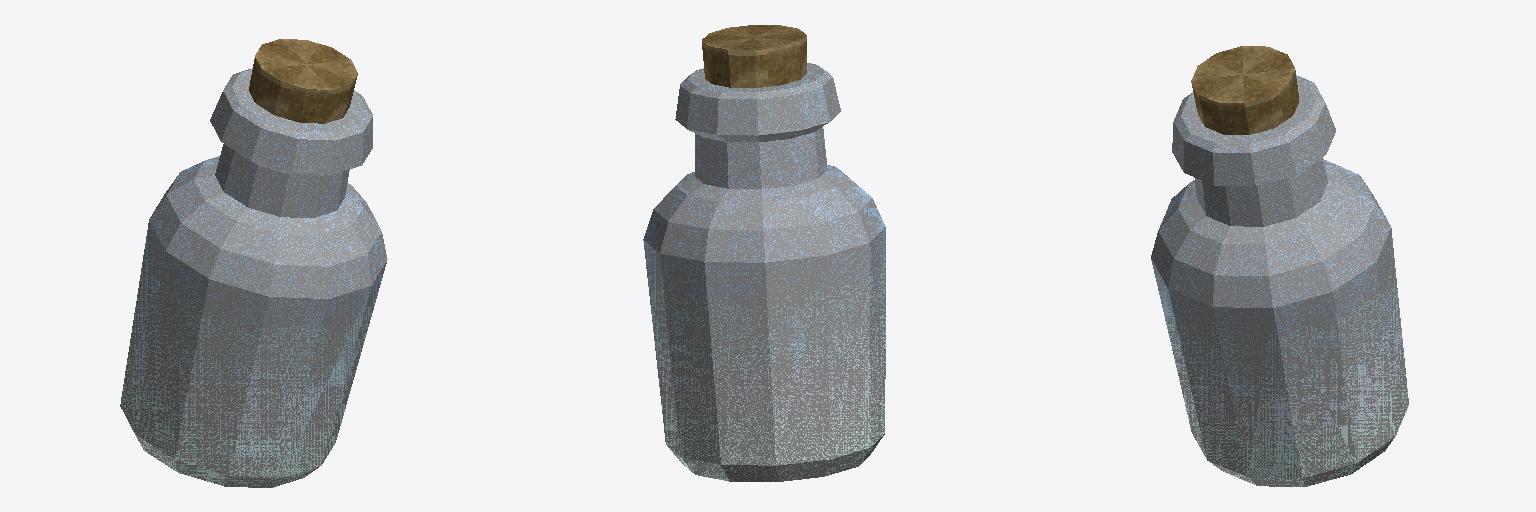
The picture shows the model from 3 angles: view 1: azimuth 30°, elevation 25°; view 2: azimuth 150°, elevation 25°; view 3: azimuth 270°, elevation 25°; orthographic projection.
Parts seen in each view (by area): view 1: mesh0003; view 2: mesh0003; view 3: mesh0003.
Boxes of the visible parts, x1=… form: mesh0003: x1=120, y1=39, x2=387, y2=487; mesh0003: x1=643, y1=25, x2=885, y2=481; mesh0003: x1=1151, y1=46, x2=1408, y2=486.
Bounding box in the file's own units: 0.3499 × 0.6153 × 0.3495.
Materials: 5 (4 with a texture image).